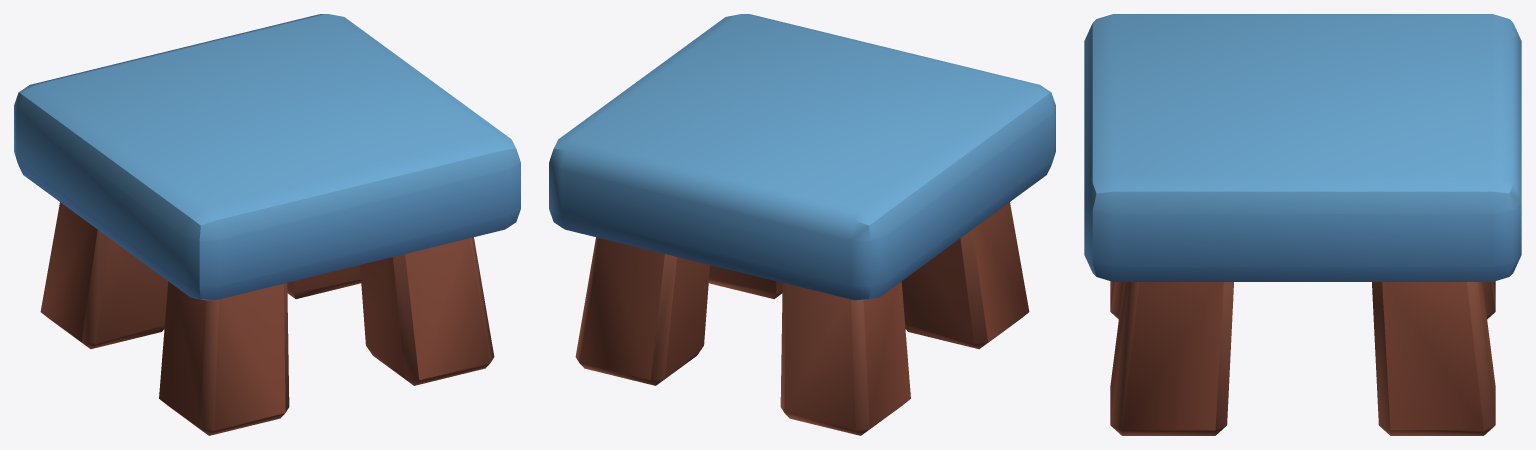
File: stool.glb
3 views of the same model, side by side, from view 1: azimuth 30°, elevation 25°; view 2: azimuth 150°, elevation 25°; view 3: azimuth 270°, elevation 25° (orthographic). The views are drawn at different scales.
Parts seen in each view (by area): view 1: chair_stool; view 2: chair_stool; view 3: chair_stool.
Part boxes in pixels (bbox=[...]): chair_stool: bbox=[14, 14, 520, 435]; chair_stool: bbox=[549, 14, 1055, 435]; chair_stool: bbox=[1084, 14, 1521, 435].
Size of the model in its own units: 0.75 by 0.5 by 0.75.
1 material, 1 textured.
